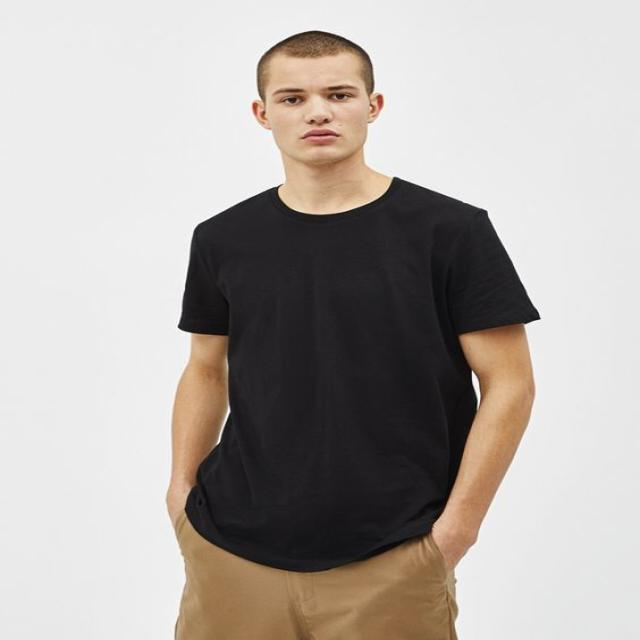Upper-Body: (180, 176, 539, 567)
